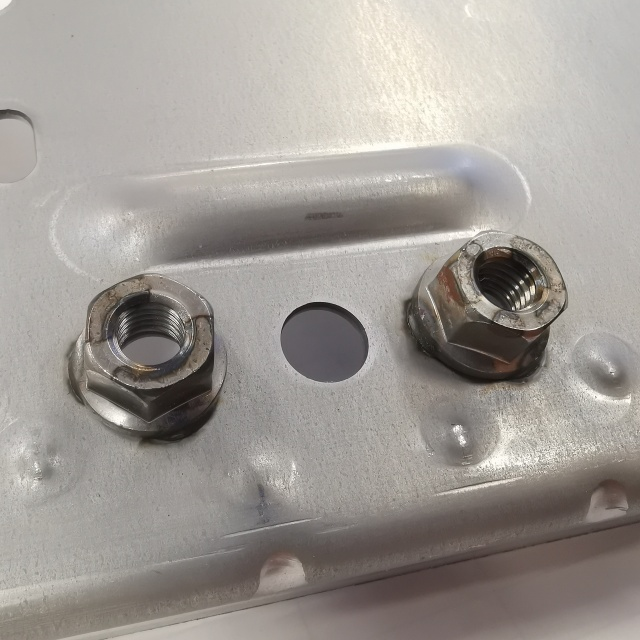dog: (62, 269, 234, 445), (406, 227, 574, 387)
